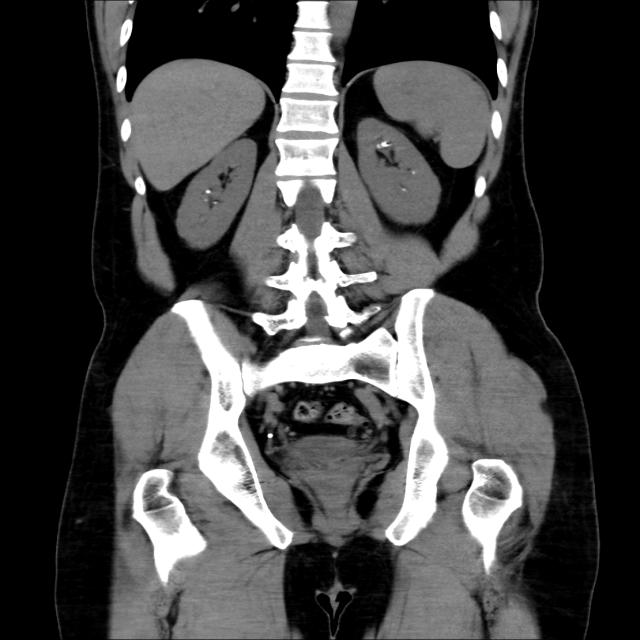kidneystone: (377, 135, 391, 149)
